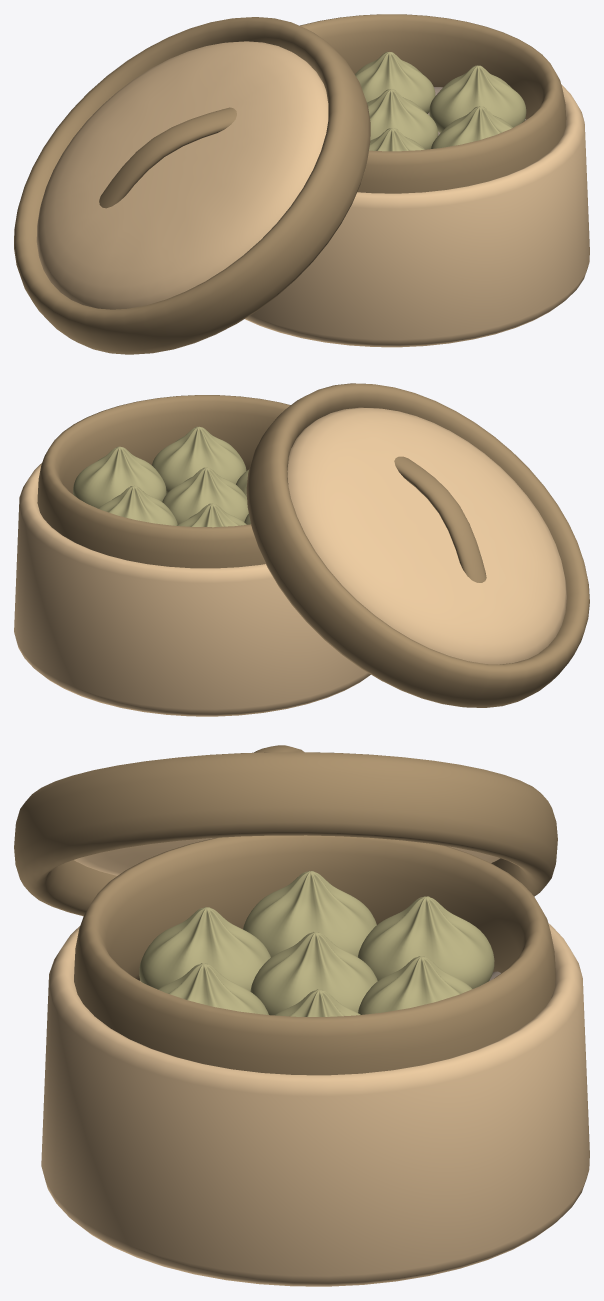
The model's file is platilloDumplins.fbx.
3 views of the same model, one above another, from view 1: azimuth 30°, elevation 25°; view 2: azimuth 150°, elevation 25°; view 3: azimuth 270°, elevation 25° (orthographic). The views are drawn at different scales.
Parts seen in each view (by area): view 1: platilloDumplins; view 2: platilloDumplins; view 3: platilloDumplins.
Part boxes in pixels (box(x1,y1,x2,y2)): platilloDumplins: box(14, 14, 589, 354); platilloDumplins: box(14, 383, 589, 716); platilloDumplins: box(14, 745, 589, 1286).
Bounding box in the file's own units: 88.05 × 41.64 × 60.41.
